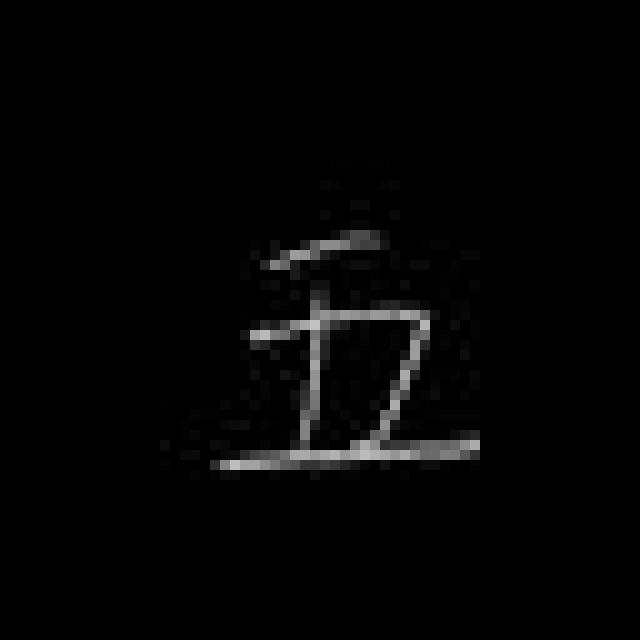5 -five-: (204, 220, 490, 474)
